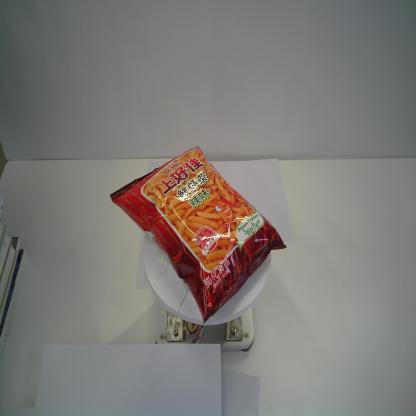Puffed Food: (109, 144, 287, 325)
